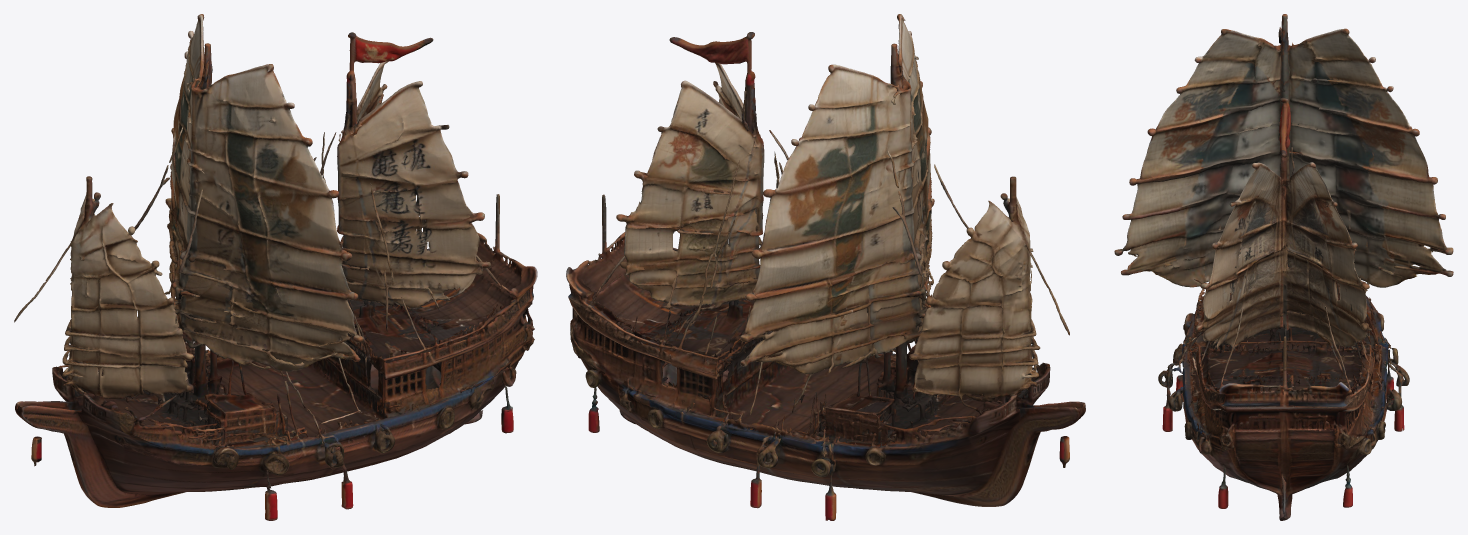
File: Golden_Galleon.glb
3 views of the same model, side by side, from view 1: azimuth 30°, elevation 25°; view 2: azimuth 150°, elevation 25°; view 3: azimuth 270°, elevation 25° (orthographic). The views are drawn at different scales.
Size of the model in its own units: 2 by 1.74 by 1.37.
1 material, 1 textured.
